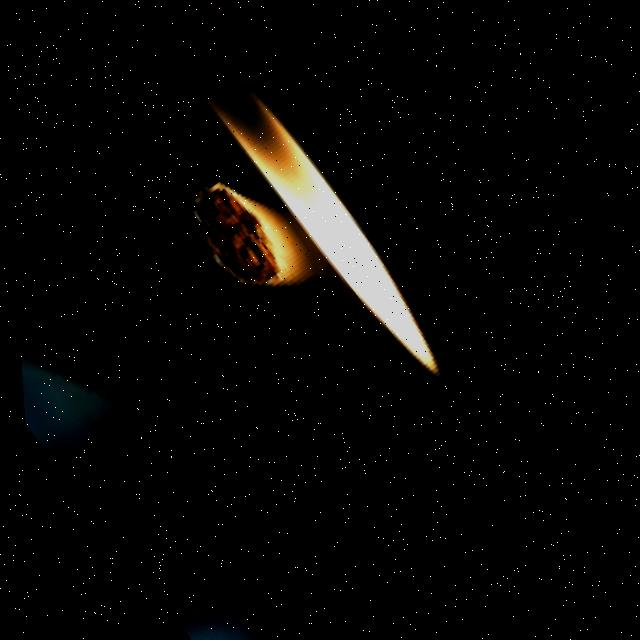Fire: (149, 6, 490, 399)
